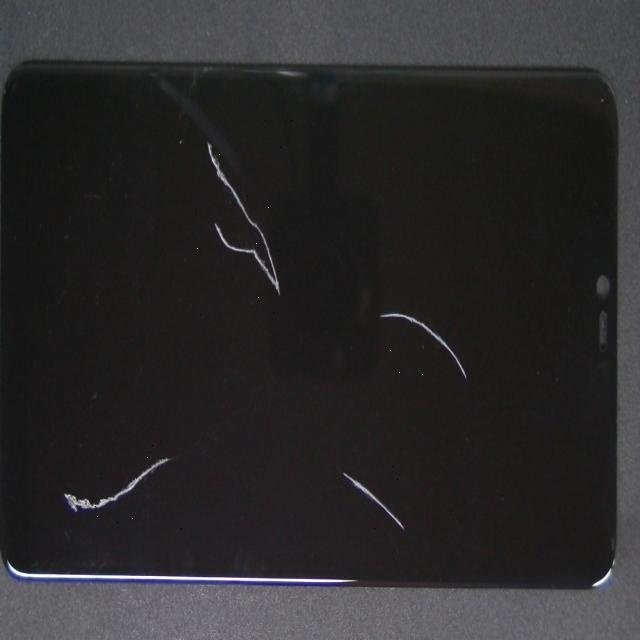scratch: (93, 241, 526, 640), (182, 122, 569, 483), (55, 54, 325, 369), (96, 239, 148, 640)
